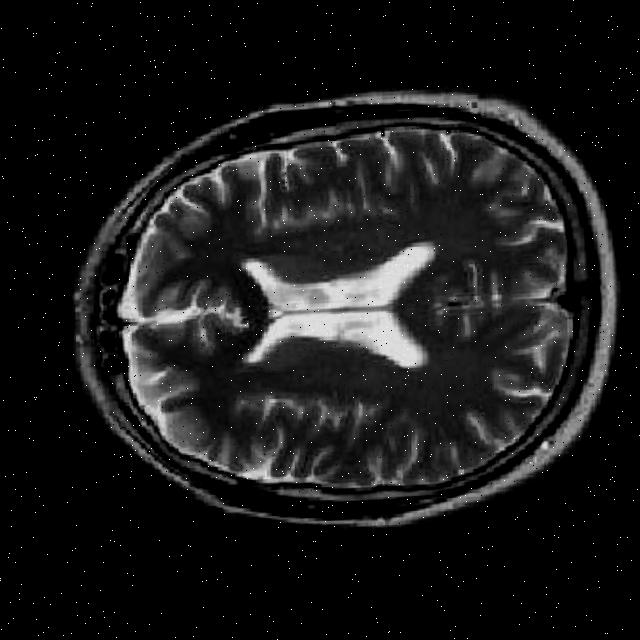NoTumor: (60, 77, 626, 540)
